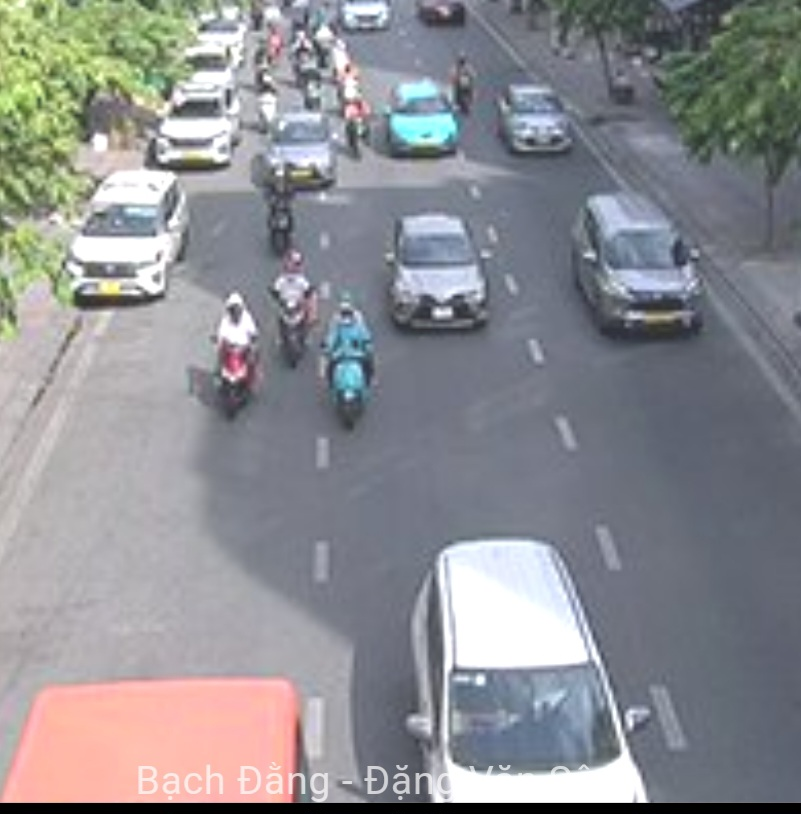car: (403, 543, 650, 814), (574, 190, 707, 335), (66, 170, 190, 304), (385, 214, 492, 331), (154, 89, 242, 175), (386, 80, 460, 154), (499, 82, 573, 156), (268, 116, 337, 190)
